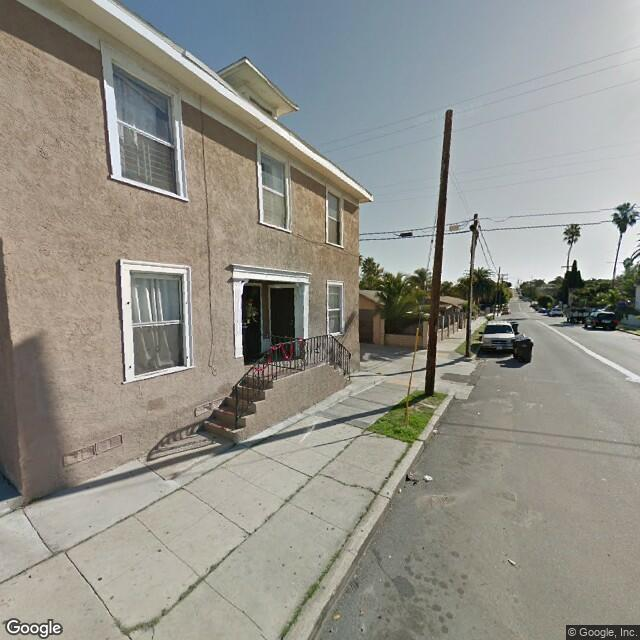litter: (406, 473, 416, 488), (425, 473, 433, 480)
